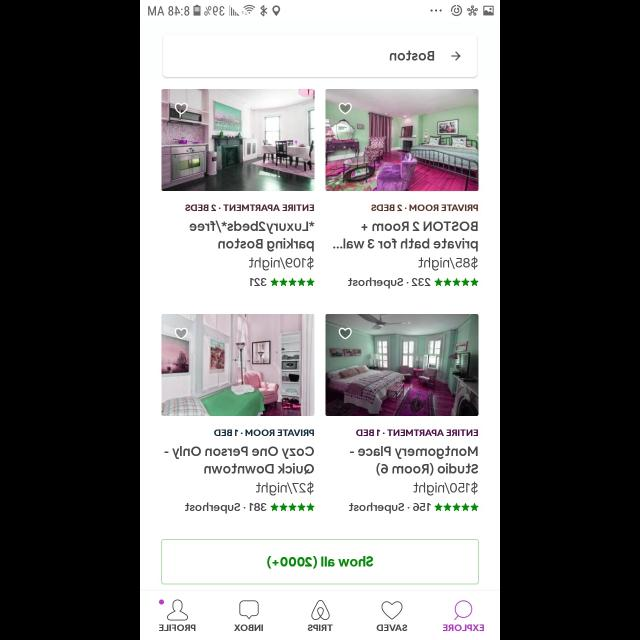icon: (166, 600, 188, 620), (434, 502, 478, 512), (382, 600, 402, 620), (239, 600, 259, 620), (454, 600, 472, 620), (270, 503, 314, 511), (270, 278, 314, 286), (434, 278, 478, 286), (338, 103, 352, 115), (338, 328, 352, 340), (175, 103, 188, 115), (175, 328, 188, 340), (451, 51, 461, 60)
image: (326, 89, 478, 191), (162, 89, 314, 191), (326, 314, 478, 416), (162, 315, 314, 417), (310, 600, 330, 620)
input: (162, 34, 478, 78)
text: (332, 220, 478, 252), (164, 446, 314, 474), (190, 220, 314, 252), (349, 446, 478, 476), (186, 204, 314, 212), (414, 480, 478, 496), (348, 277, 430, 289), (185, 502, 267, 514), (349, 502, 431, 514), (248, 257, 314, 271), (370, 204, 478, 212), (356, 429, 478, 436), (418, 257, 478, 271), (256, 482, 314, 496), (214, 429, 314, 436), (390, 51, 434, 61), (442, 624, 484, 632), (158, 624, 196, 632), (377, 624, 408, 632), (234, 624, 262, 632), (308, 624, 332, 632), (250, 278, 266, 286)
textbutton: (161, 539, 479, 585)
uppertaskbar: (140, 1, 500, 18)
